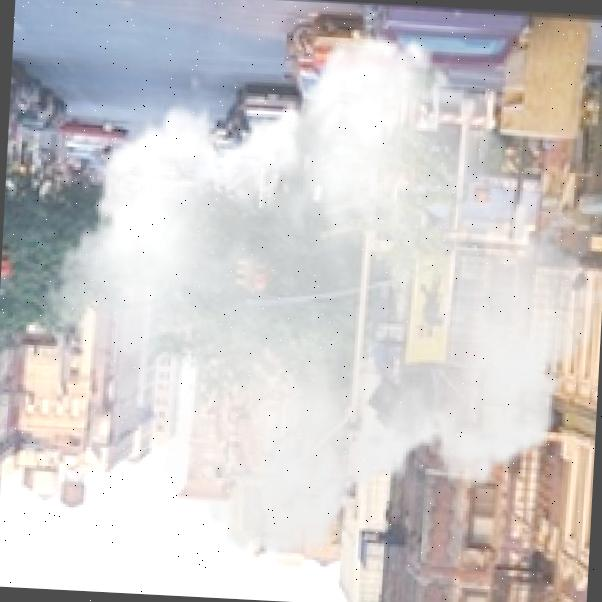smoke: (32, 0, 602, 594)
